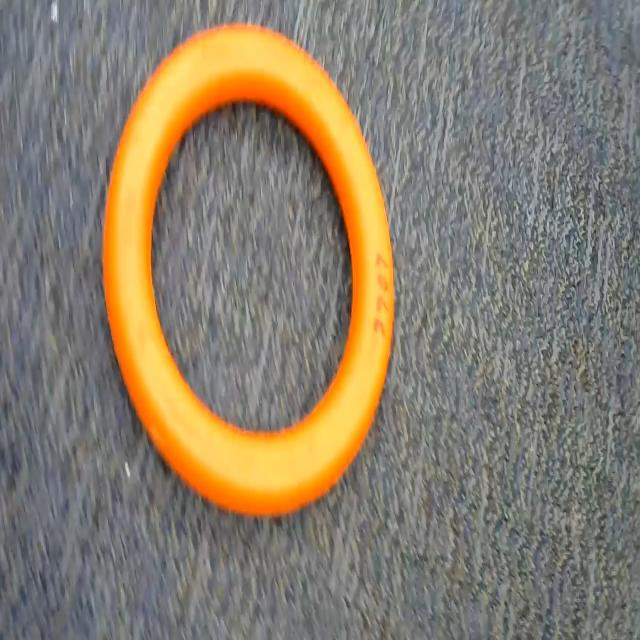note: (100, 21, 402, 525)
